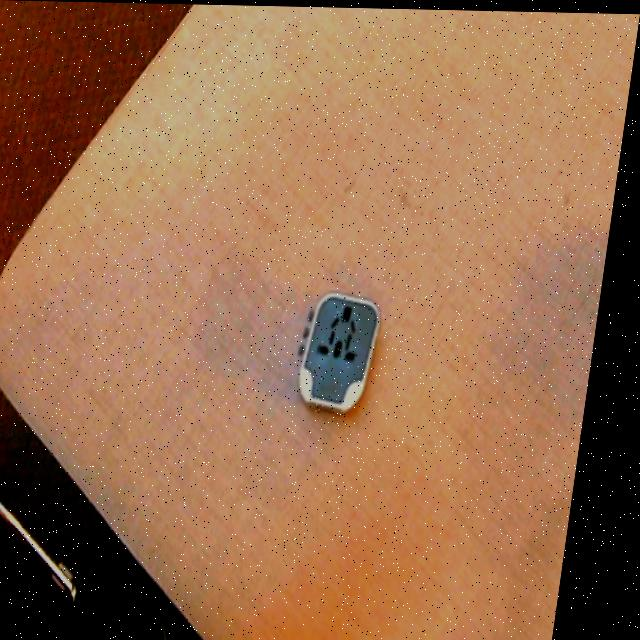adapter: (301, 288, 393, 410)
